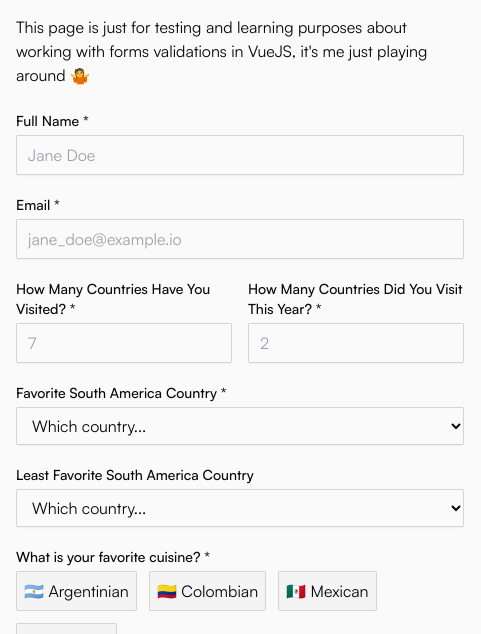
About View › errors messages are show when the user type
Type "Te" into the field labelled "Full Name *". click: (240, 155)
box: [16, 135, 464, 175]
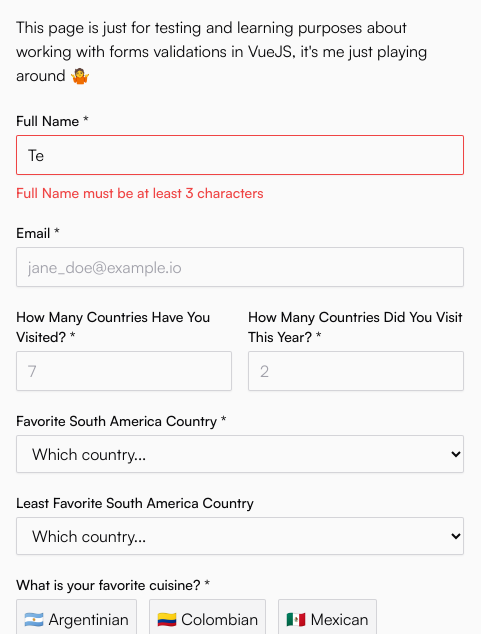
Type "example" into the field labelled "Email *". click: (240, 267)
box: [16, 247, 464, 287]
(page scrolled)
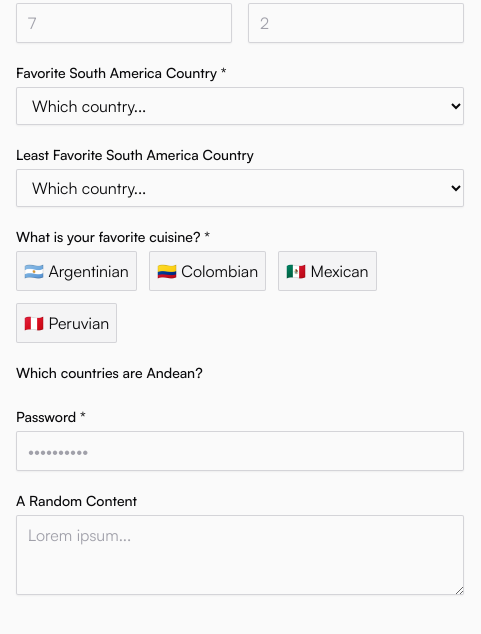
Type "T" into the text box labelled "A random content". click: (240, 555)
box: [16, 515, 464, 595]
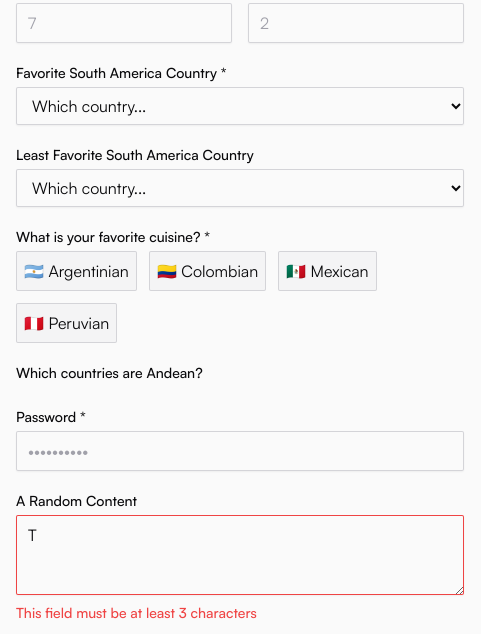
expect the text "This field must be at least 3 characters" is shown: met, box [16, 604, 257, 621]
